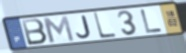3: (117, 9, 140, 37)
B: (20, 17, 49, 47)
J: (75, 14, 93, 40)
L: (92, 11, 118, 40), (139, 8, 164, 34)
M: (40, 15, 76, 44)
